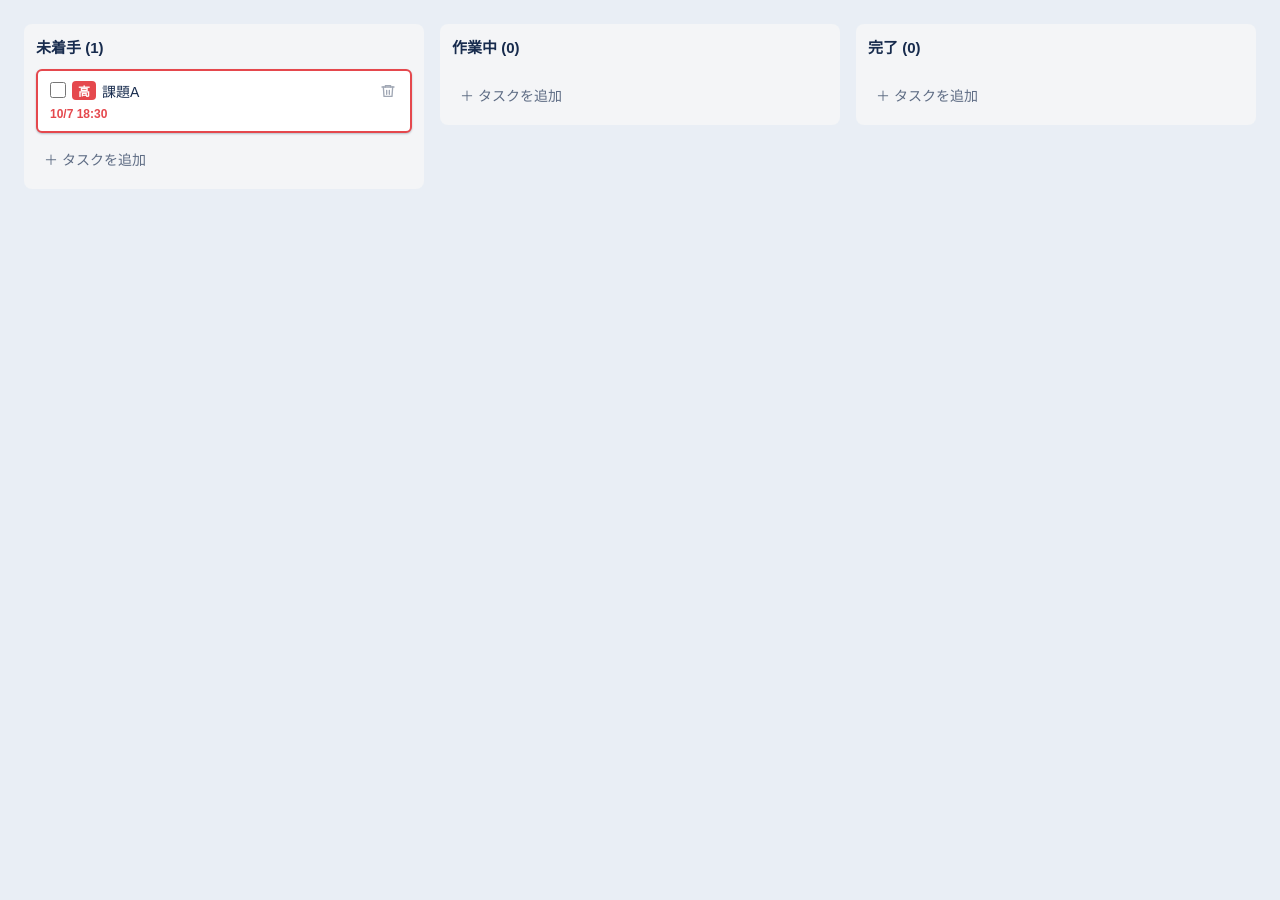
Test case: カードをクリックすると、今の内容が入った編集ウィンドウが開く
Click the button with aria-label "課題A を編集" at (121, 92), box [36,69,412,133]
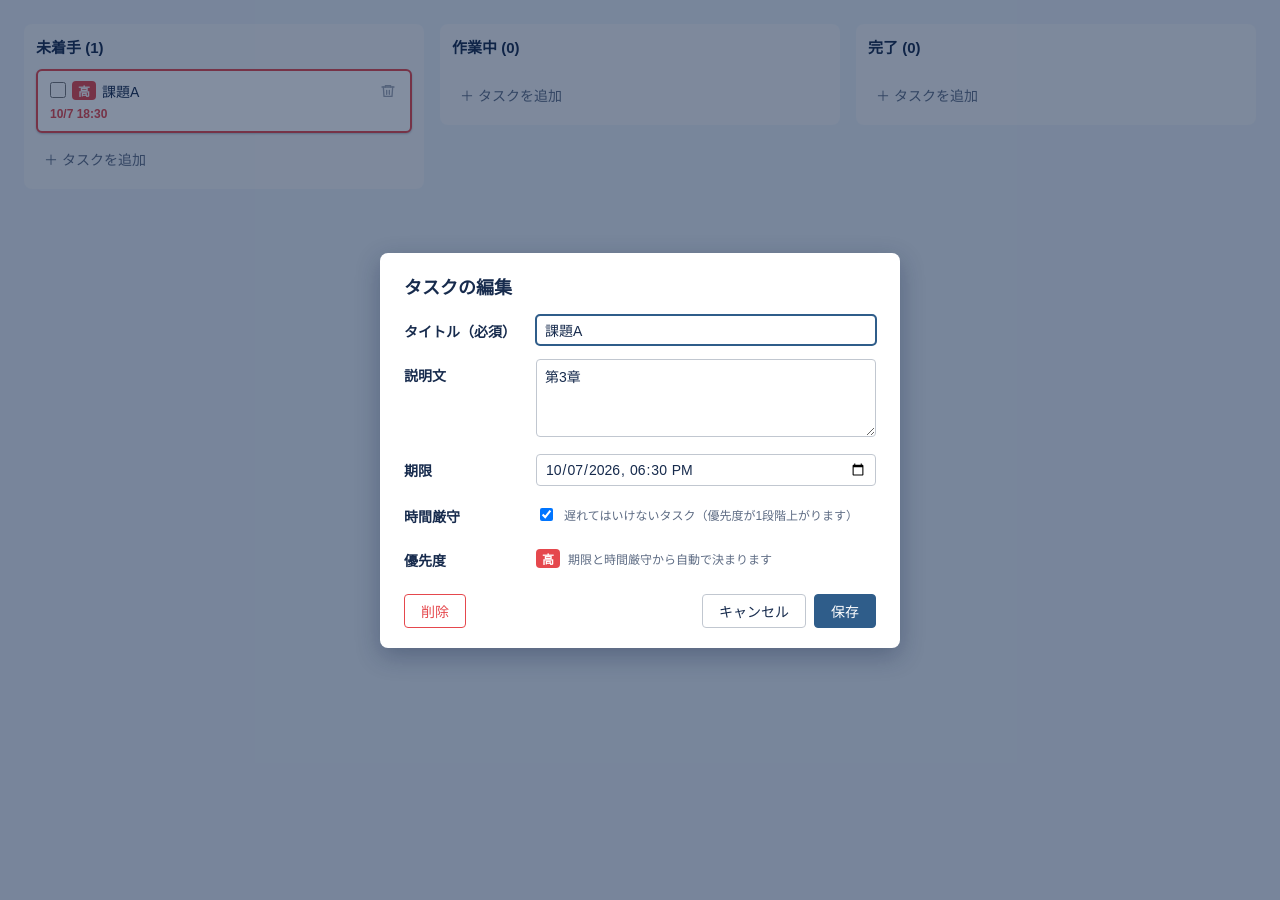
Result: the field labelled "タイトル（必須）" holds "課題A" at [536,314,876,344]
Result: the text box labelled "説明文" holds "第3章" at [536,358,876,436]
Result: the field labelled "期限" holds "2026-10-07T18:30" at [536,454,876,486]
